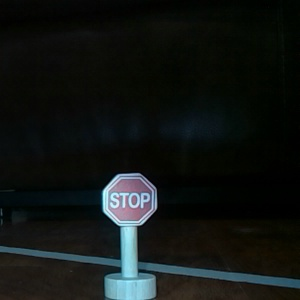stop sign: (100, 170, 159, 300)
